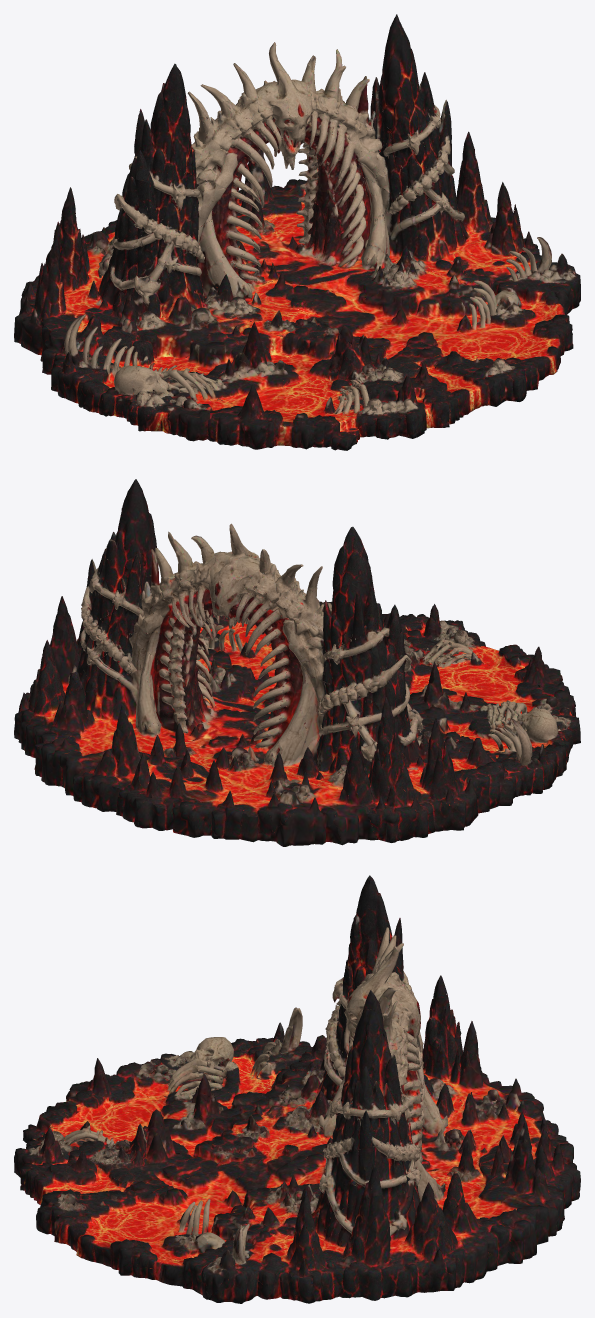
The model's file is black_colossal_bone_gate.glb.
3 renders of one model, top to bottom at view 1: azimuth 30°, elevation 25°; view 2: azimuth 150°, elevation 25°; view 3: azimuth 270°, elevation 25°, orthographic. The views are drawn at different scales.
Parts seen in each view (by area): view 1: Mesh_0; view 2: Mesh_0; view 3: Mesh_0.
Part boxes in pixels (bbox=[...]): Mesh_0: bbox=[14, 14, 580, 450]; Mesh_0: bbox=[14, 479, 580, 846]; Mesh_0: bbox=[14, 875, 580, 1303].
Size of the model in its own units: 1.9 by 0.965 by 1.87.
Materials: 1 (1 with a texture image).
